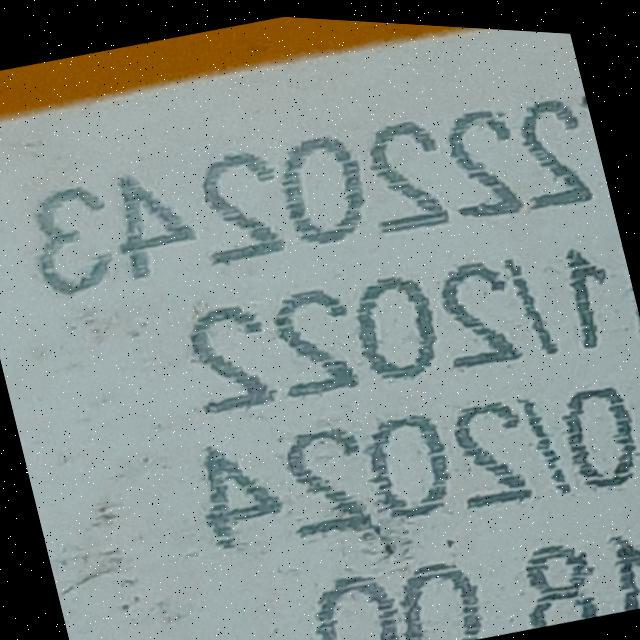sentence: (36, 85, 609, 293), (190, 228, 640, 409), (204, 378, 640, 545), (316, 526, 640, 640)
